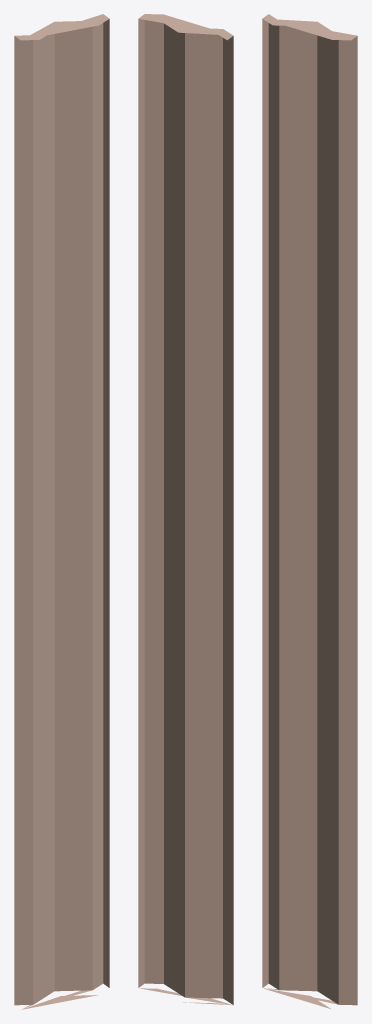
File: fishcake.glb
3 renders of one model, left to right at view 1: azimuth 30°, elevation 25°; view 2: azimuth 150°, elevation 25°; view 3: azimuth 330°, elevation 25°, orthographic.
Visible parts, largest first — view 1: wavy_ribbon; view 2: wavy_ribbon; view 3: wavy_ribbon.
Part boxes in pixels (x1=…): wavy_ribbon: x1=14, y1=14, x2=109, y2=1009; wavy_ribbon: x1=138, y1=14, x2=233, y2=1005; wavy_ribbon: x1=262, y1=14, x2=357, y2=1009.
Size of the model in its own units: 0.096 by 1 by 0.028.
